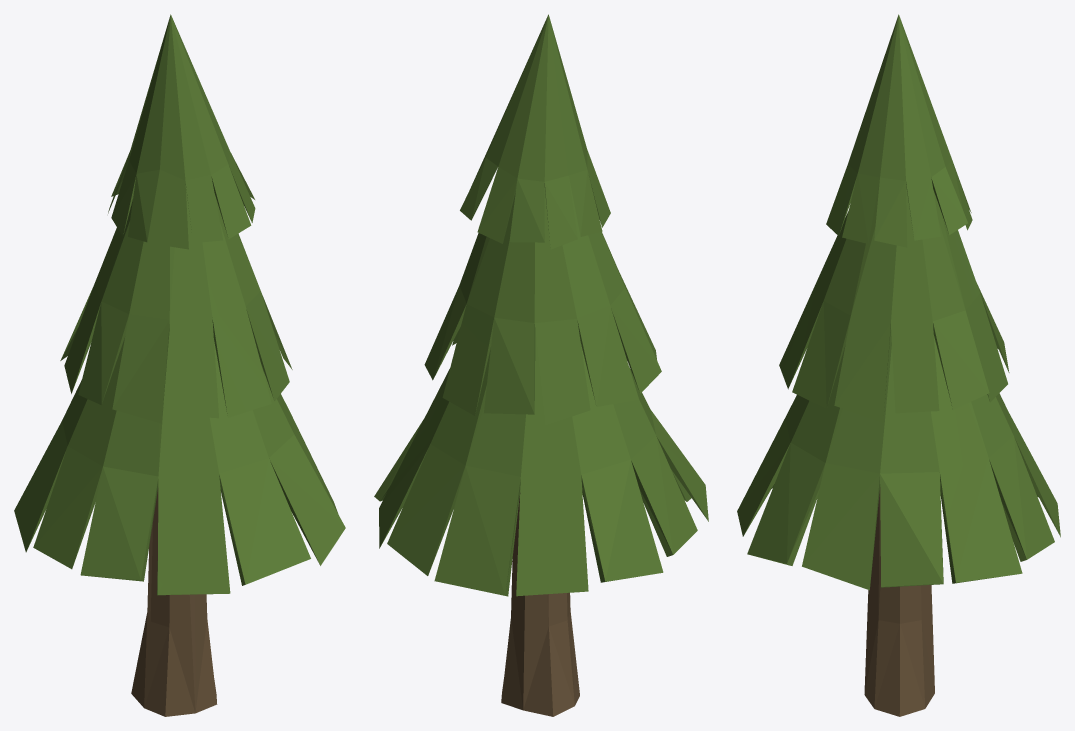
Rendered from Tree_21.fbx.
3 renders of one model, left to right at view 1: azimuth 30°, elevation 25°; view 2: azimuth 150°, elevation 25°; view 3: azimuth 270°, elevation 25°, orthographic.
Visible parts, largest first — view 1: Tree_21; view 2: Tree_21; view 3: Tree_21.
Part boxes in pixels (x1=…): Tree_21: x1=14, y1=14, x2=345, y2=716; Tree_21: x1=374, y1=14, x2=708, y2=716; Tree_21: x1=737, y1=14, x2=1060, y2=716.
Bounding box in the file's own units: 92.43 × 215 × 92.88.
